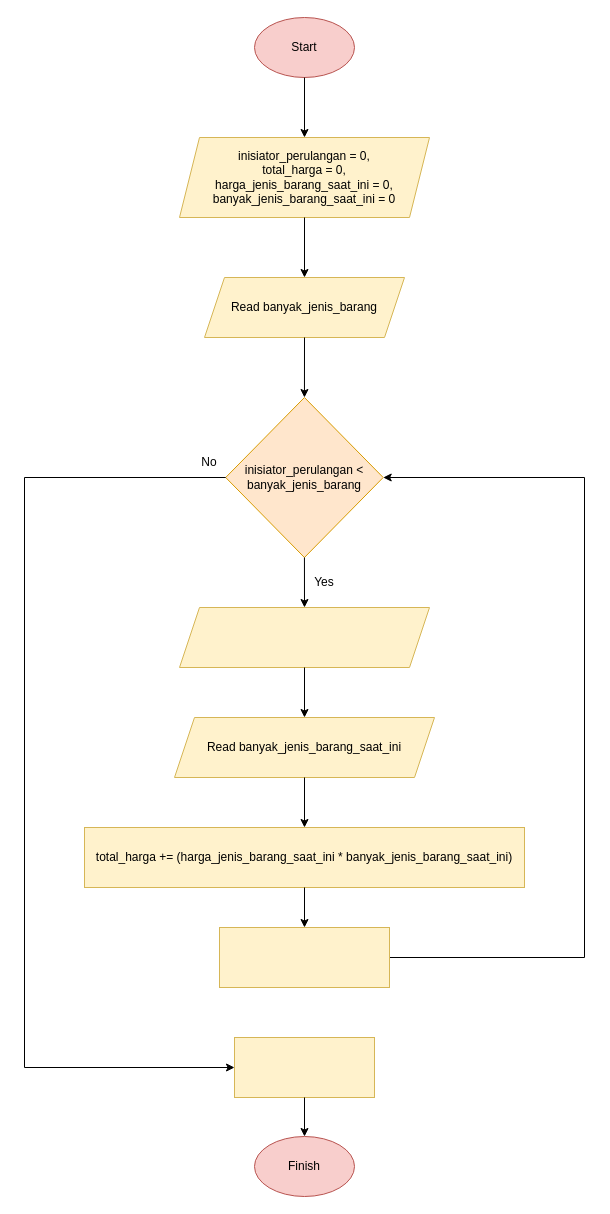
This 610x1214 diagram has some shape labels left out. The centre of each missing label's shape, as x and y in pixels:
"inisiator_perulangan++" belongs at [304,957].
"Print total_harga" belongs at [304,1067].
"Read harga_jenis_barang_saat_ini" belongs at [304,637].
